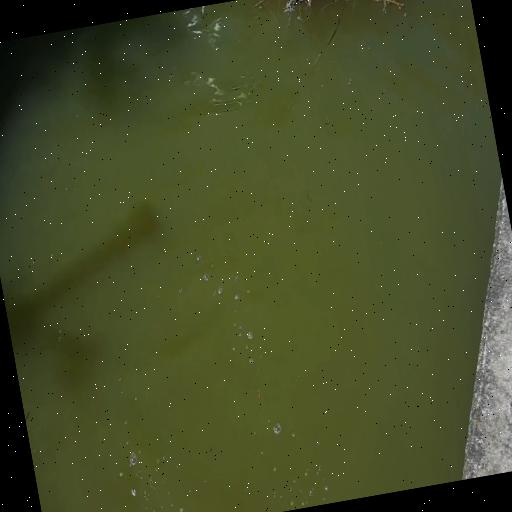twig: (278, 0, 413, 25)
